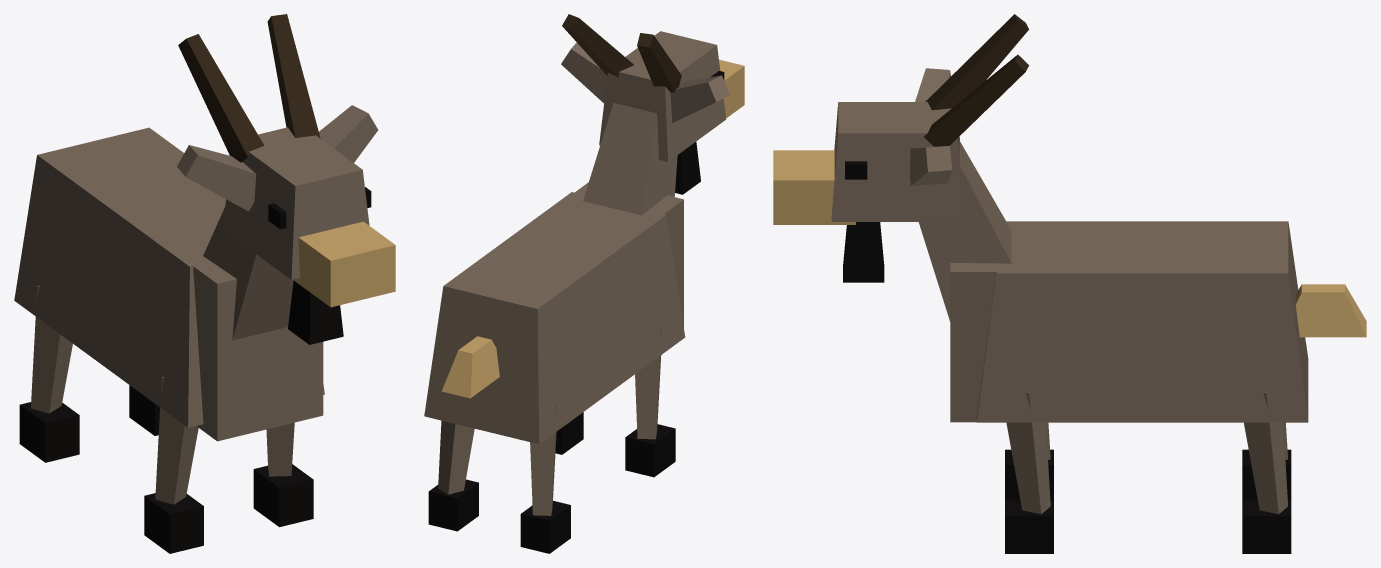
The model's file is goat.glb.
The picture shows the model from 3 angles, left to right: view 1: azimuth 30°, elevation 25°; view 2: azimuth 150°, elevation 25°; view 3: azimuth 270°, elevation 25°; orthographic projection. The views are drawn at different scales.
Parts seen in each view (by area): view 1: goat; view 2: goat; view 3: goat.
Part boxes in pixels (bbox=[...]): goat: bbox=[14, 14, 395, 553]; goat: bbox=[424, 14, 744, 553]; goat: bbox=[773, 14, 1366, 553].
Bounding box in the file's own units: 0.5634 × 1.41 × 1.57.
1 material, 1 textured.
